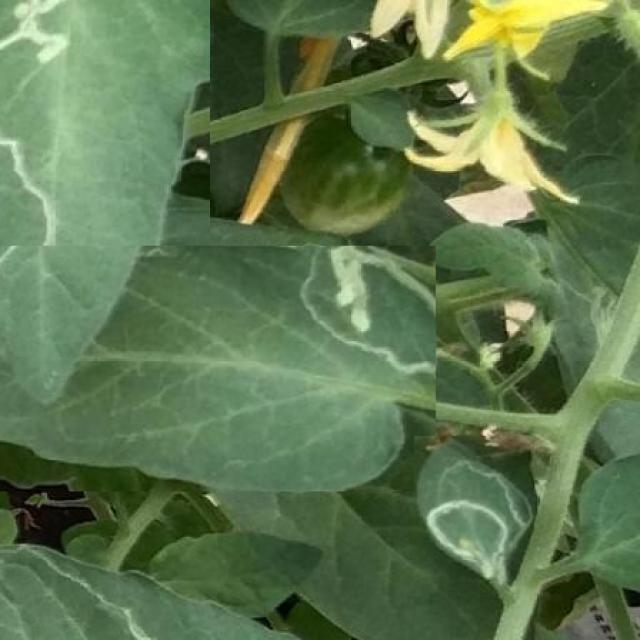Leaf Miner: (0, 246, 436, 491), (0, 0, 210, 410), (415, 437, 535, 582)
